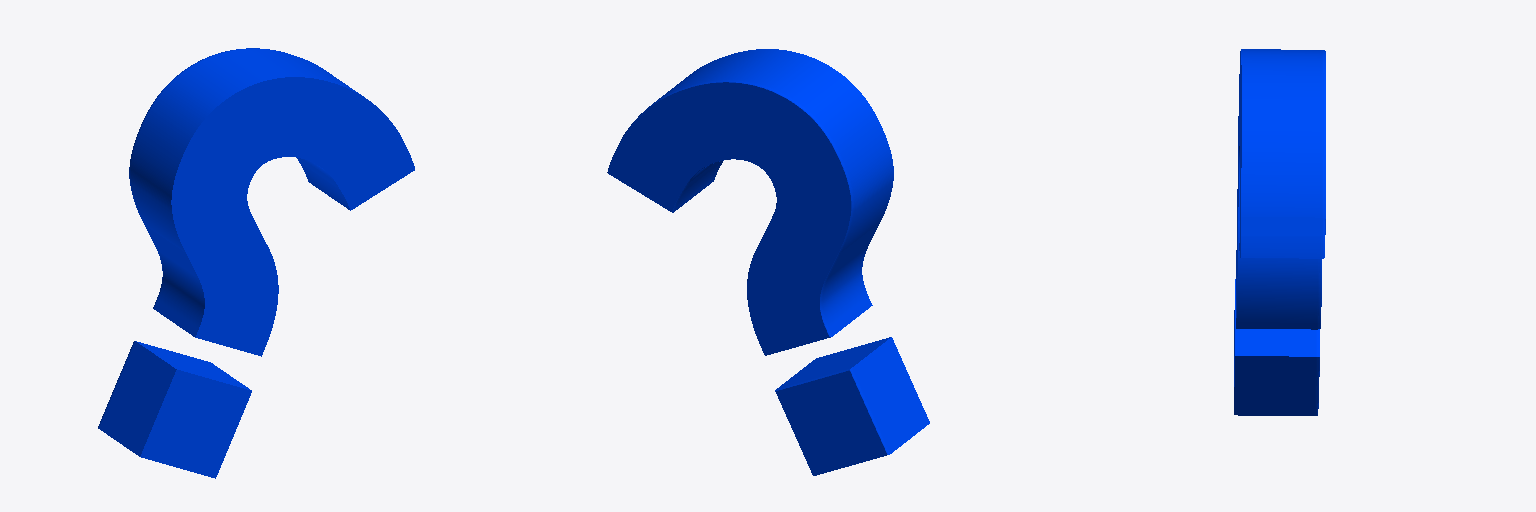
File: question_mark.obj
The picture shows the model from 3 angles: view 1: azimuth 30°, elevation 25°; view 2: azimuth 150°, elevation 25°; view 3: azimuth 270°, elevation 25°; orthographic projection.
Parts seen in each view (by area): view 1: Object_2; view 2: Object_2; view 3: Object_2.
Boxes of the visible parts, box(x1,y1,x2,y2) form: Object_2: box(98, 48, 414, 478); Object_2: box(607, 49, 929, 475); Object_2: box(1234, 49, 1325, 415).
Bounding box in the file's own units: 436 × 572 × 125.